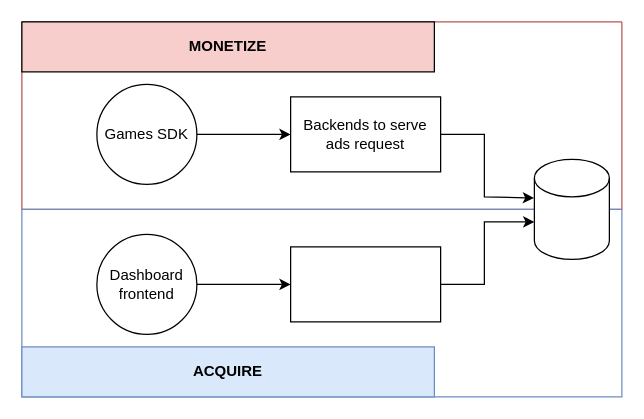
Image size: 644x419. Some labels were removed from this diagram. Each missing label, with the centre of its shape:
Backend to configure ads: the point at 365,284
Single DB: the point at 571,208
